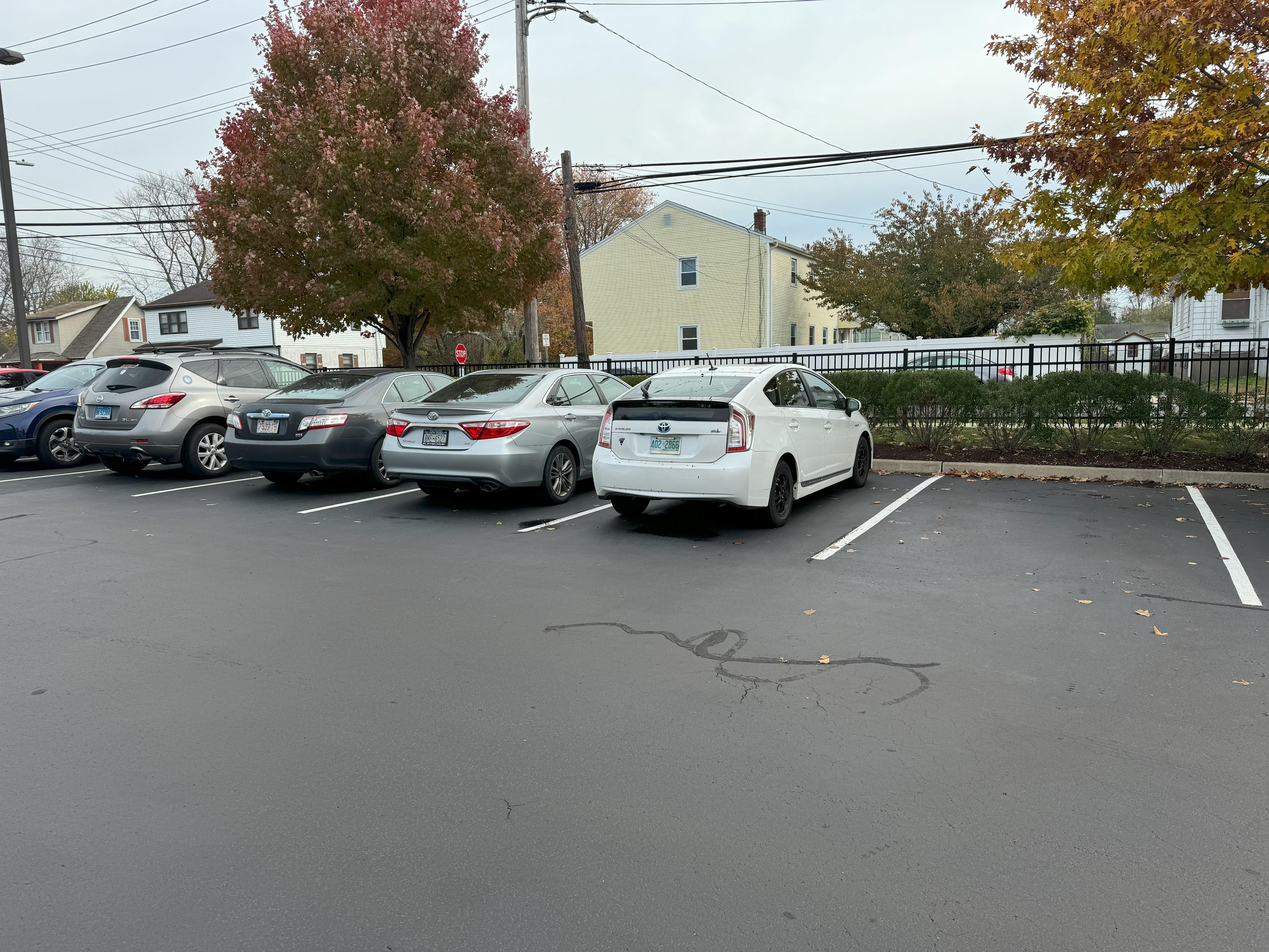empty: (894, 487, 1205, 607)
occupied: (596, 349, 878, 545), (376, 340, 592, 524), (63, 332, 221, 524), (229, 327, 372, 519)
